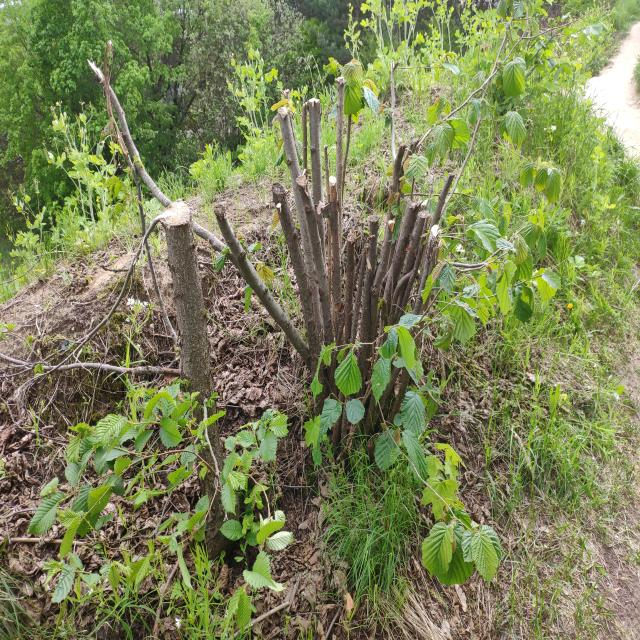restos de madeira: (8, 225, 168, 374), (161, 207, 217, 436), (294, 180, 339, 372), (264, 292, 344, 397), (303, 364, 370, 469), (281, 116, 318, 298), (200, 208, 269, 305), (360, 205, 396, 378), (404, 197, 426, 335), (303, 94, 323, 199), (341, 108, 353, 204), (302, 104, 308, 182)
